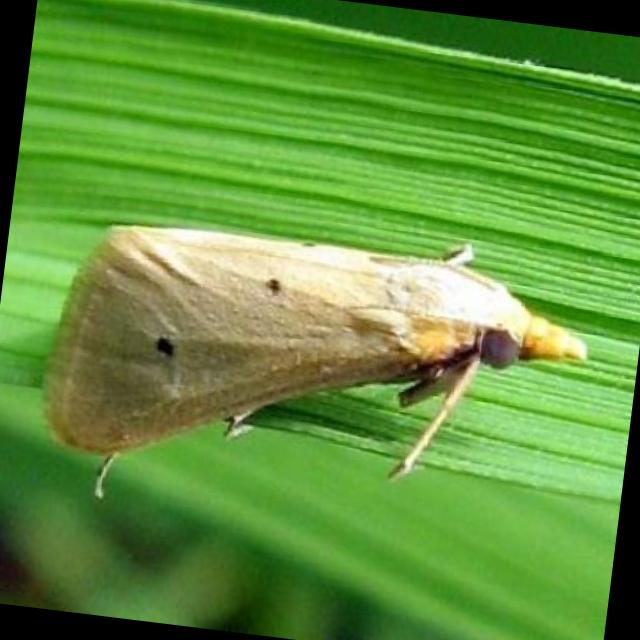stem-borer: (26, 191, 602, 559)
